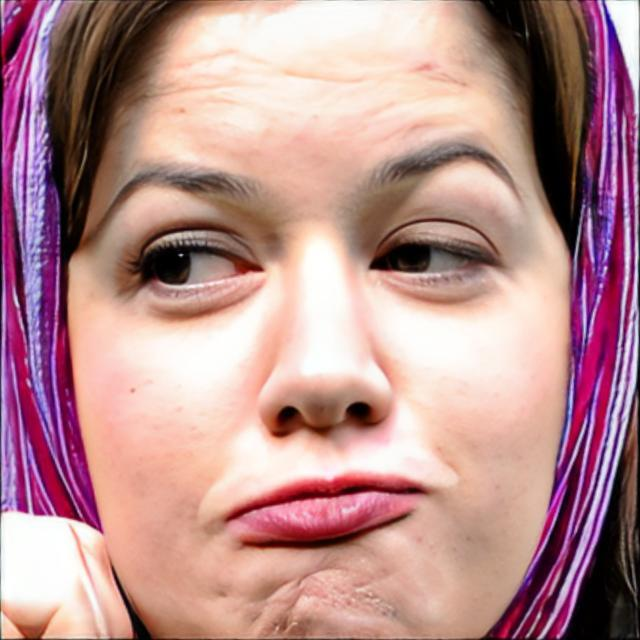content: (64, 0, 577, 640)
